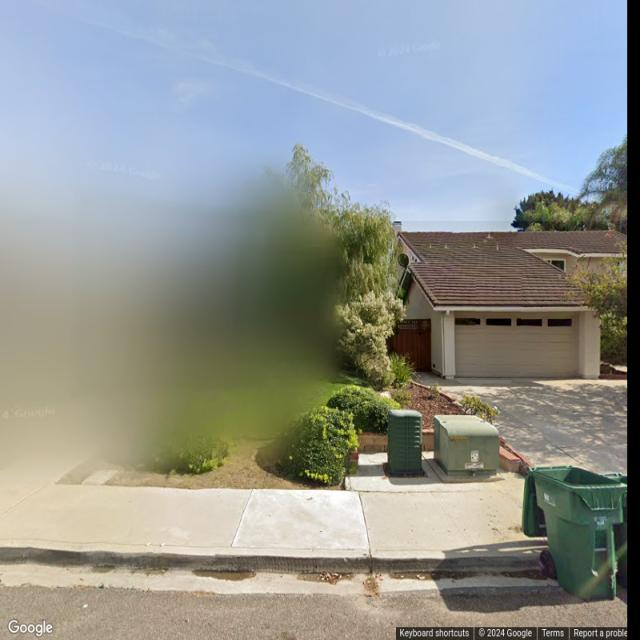House: (390, 221, 628, 380)
